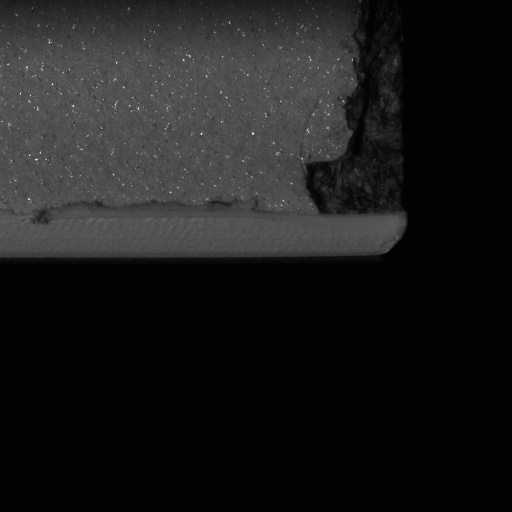bengque: (341, 11, 403, 149), (302, 150, 412, 218)
